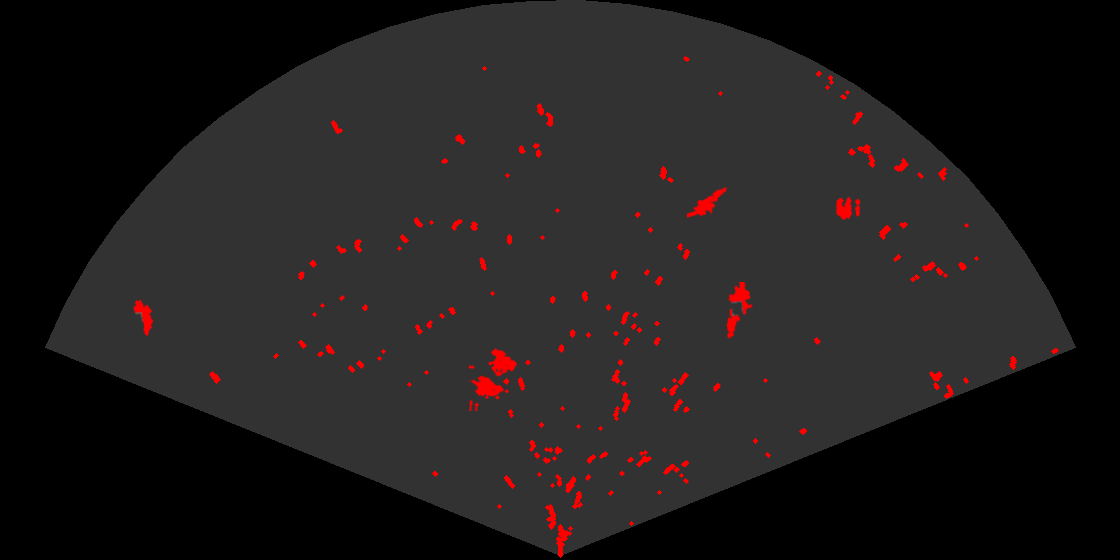AUV: (131, 298, 155, 338)
ball: (835, 195, 862, 221)
cage: (469, 346, 519, 411)
frogman: (725, 282, 755, 340), (687, 186, 730, 220)
